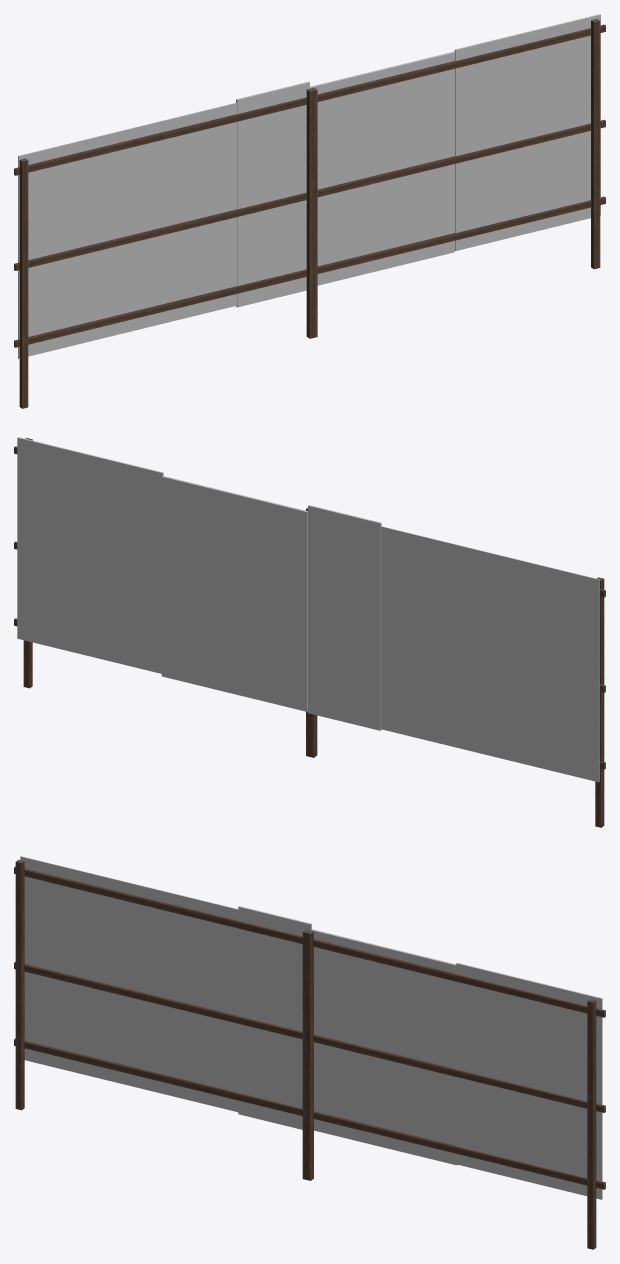
File: fence08a_2t.fbx
3 views of the same model, one above another, from view 1: azimuth 30°, elevation 25°; view 2: azimuth 150°, elevation 25°; view 3: azimuth 330°, elevation 25° (orthographic).
Visible parts, largest first — view 1: fence08a_2t; view 2: fence08a_2t; view 3: fence08a_2t.
Part boxes in pixels (x1,y1,x2,y2): fence08a_2t: (14,14,605,408); fence08a_2t: (14,437,605,827); fence08a_2t: (14,856,605,1249).
Size of the model in its own units: 445 by 182 by 7.5.
